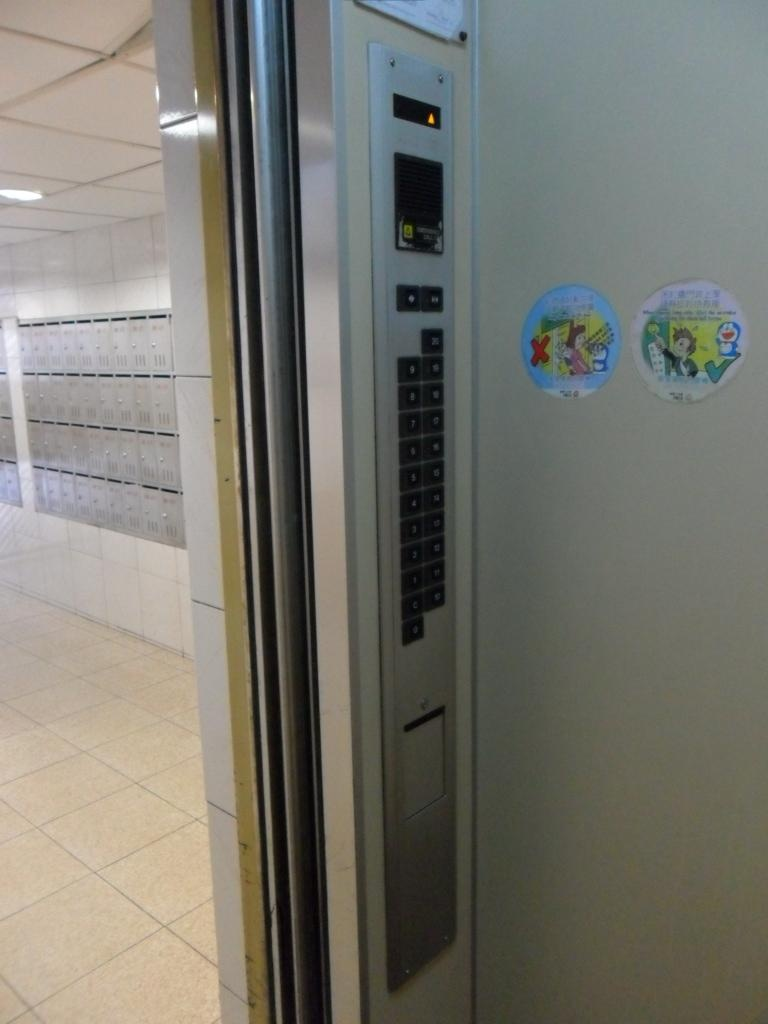1: (399, 567, 422, 595)
10: (424, 585, 446, 612)
11: (423, 559, 445, 586)
12: (423, 535, 445, 562)
13: (424, 510, 446, 537)
15: (422, 459, 444, 486)
2: (400, 541, 423, 569)
3: (399, 516, 422, 544)
4: (399, 490, 422, 518)
5: (397, 462, 422, 494)
6: (398, 435, 422, 461)
7: (397, 410, 421, 436)
8: (397, 384, 421, 410)
9: (397, 356, 421, 382)
alarm: (401, 223, 414, 240)
blur: (420, 327, 445, 356), (421, 353, 445, 382), (421, 379, 445, 408), (422, 406, 446, 435), (401, 593, 424, 621), (401, 615, 424, 643), (422, 434, 444, 461), (423, 484, 445, 511)
close: (421, 283, 445, 314)
led: (392, 92, 441, 132)
open: (395, 284, 421, 312)
